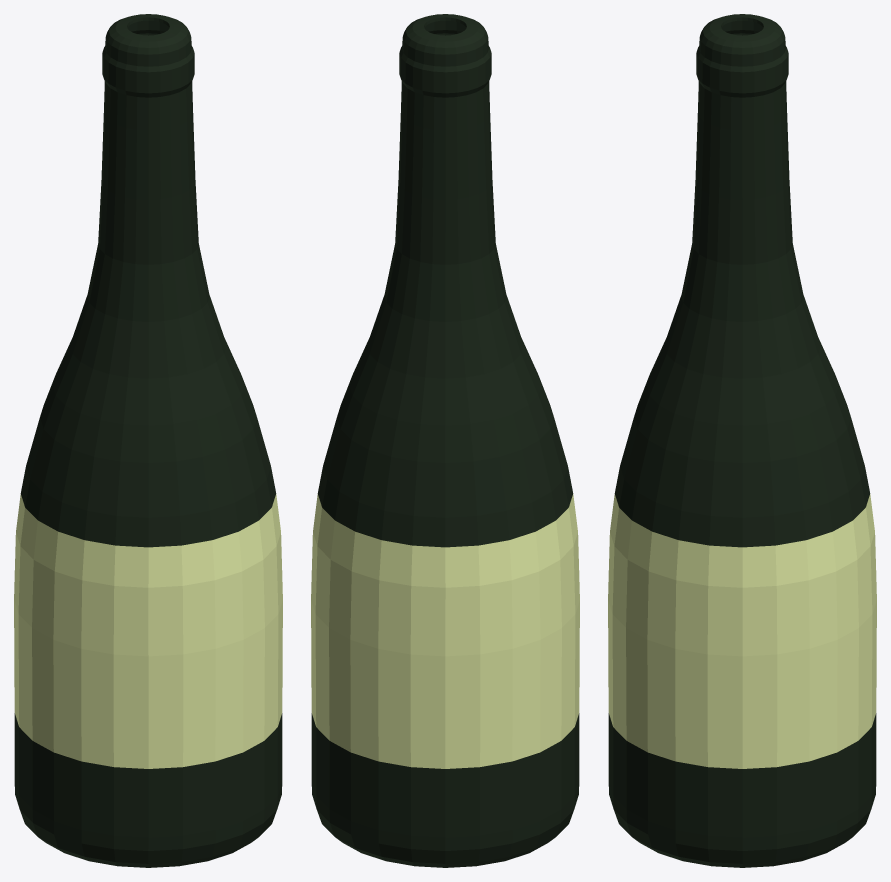
The model's file is bottle.fbx.
The picture shows the model from 3 angles, left to right: view 1: azimuth 30°, elevation 25°; view 2: azimuth 150°, elevation 25°; view 3: azimuth 270°, elevation 25°; orthographic projection.
Parts seen in each view (by area): view 1: wine bottel; view 2: wine bottel; view 3: wine bottel.
Boxes of the visible parts, x1,y1,x2,y2 form: wine bottel: [14, 14, 282, 867]; wine bottel: [311, 14, 579, 867]; wine bottel: [608, 14, 876, 867].
Size of the model in its own units: 240 by 787 by 240.
